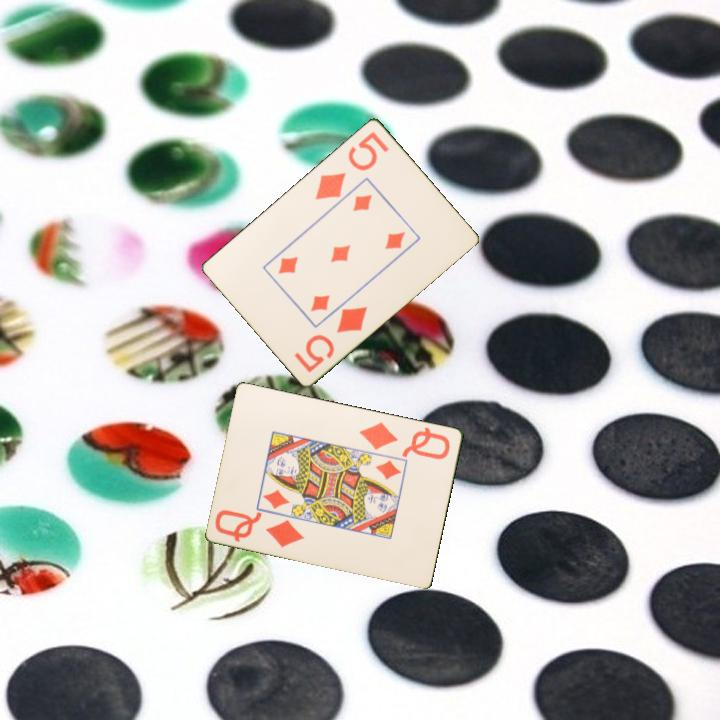5d: (311, 127, 392, 203), (290, 302, 370, 375)
Qd: (211, 506, 308, 551), (356, 418, 453, 462)
